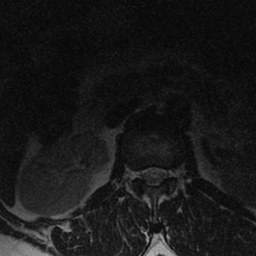CCS_stenosis: (149, 159, 157, 193)
LFS_normal: (166, 162, 173, 185)
LLS_stenosis: (157, 162, 166, 186)
RFS_stenosis: (133, 162, 141, 185)
RLS_normal: (141, 160, 149, 186)
